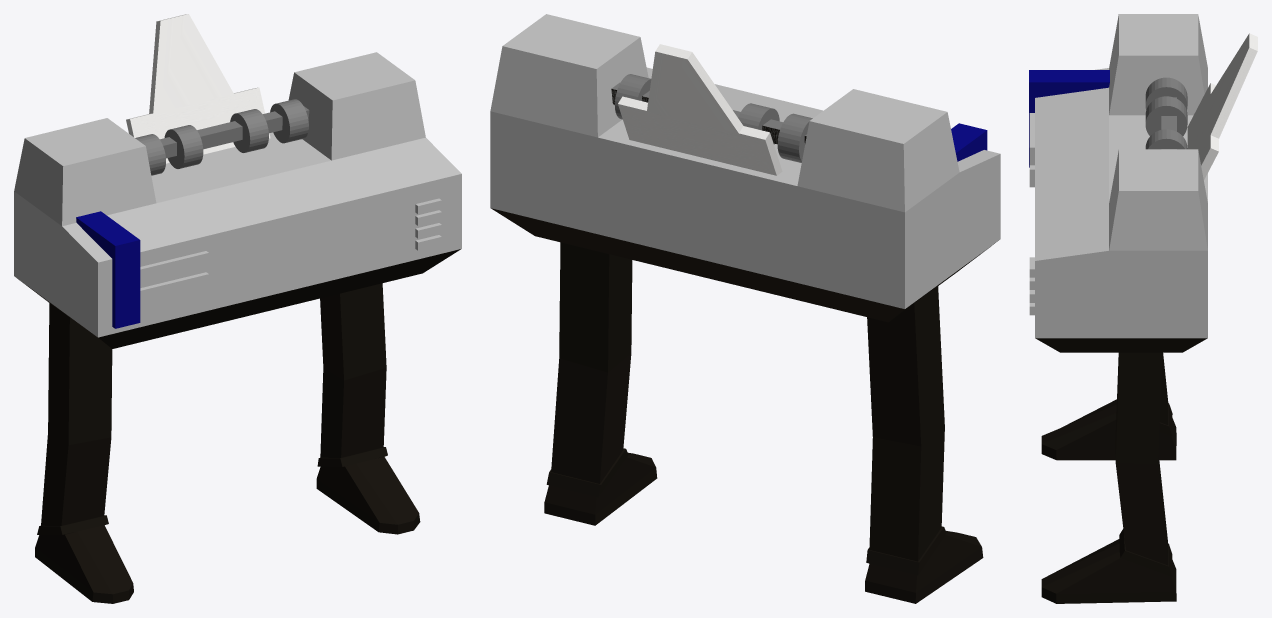
The model's file is CopierMan.fbx.
3 renders of one model, left to right at view 1: azimuth 30°, elevation 25°; view 2: azimuth 150°, elevation 25°; view 3: azimuth 270°, elevation 25°, orthographic. The views are drawn at different scales.
Parts seen in each view (by area): view 1: Cube, Cube.002, Cube.001; view 2: Cube, Cube.002, Cube.001; view 3: Cube, Cube.001, Cube.002.
Boxes of the visible parts, box(x1,y1,x2,y2) form: Cube: box(14, 14, 461, 348); Cube.002: box(35, 303, 133, 603); Cube.001: box(316, 283, 420, 534); Cube: box(490, 14, 1000, 322); Cube.002: box(865, 286, 983, 603); Cube.001: box(544, 242, 657, 525); Cube: box(1029, 14, 1257, 352); Cube.001: box(1041, 352, 1176, 603); Cube.002: box(1041, 352, 1176, 460).
Size of the model in its own units: 897 by 1114 by 474.
